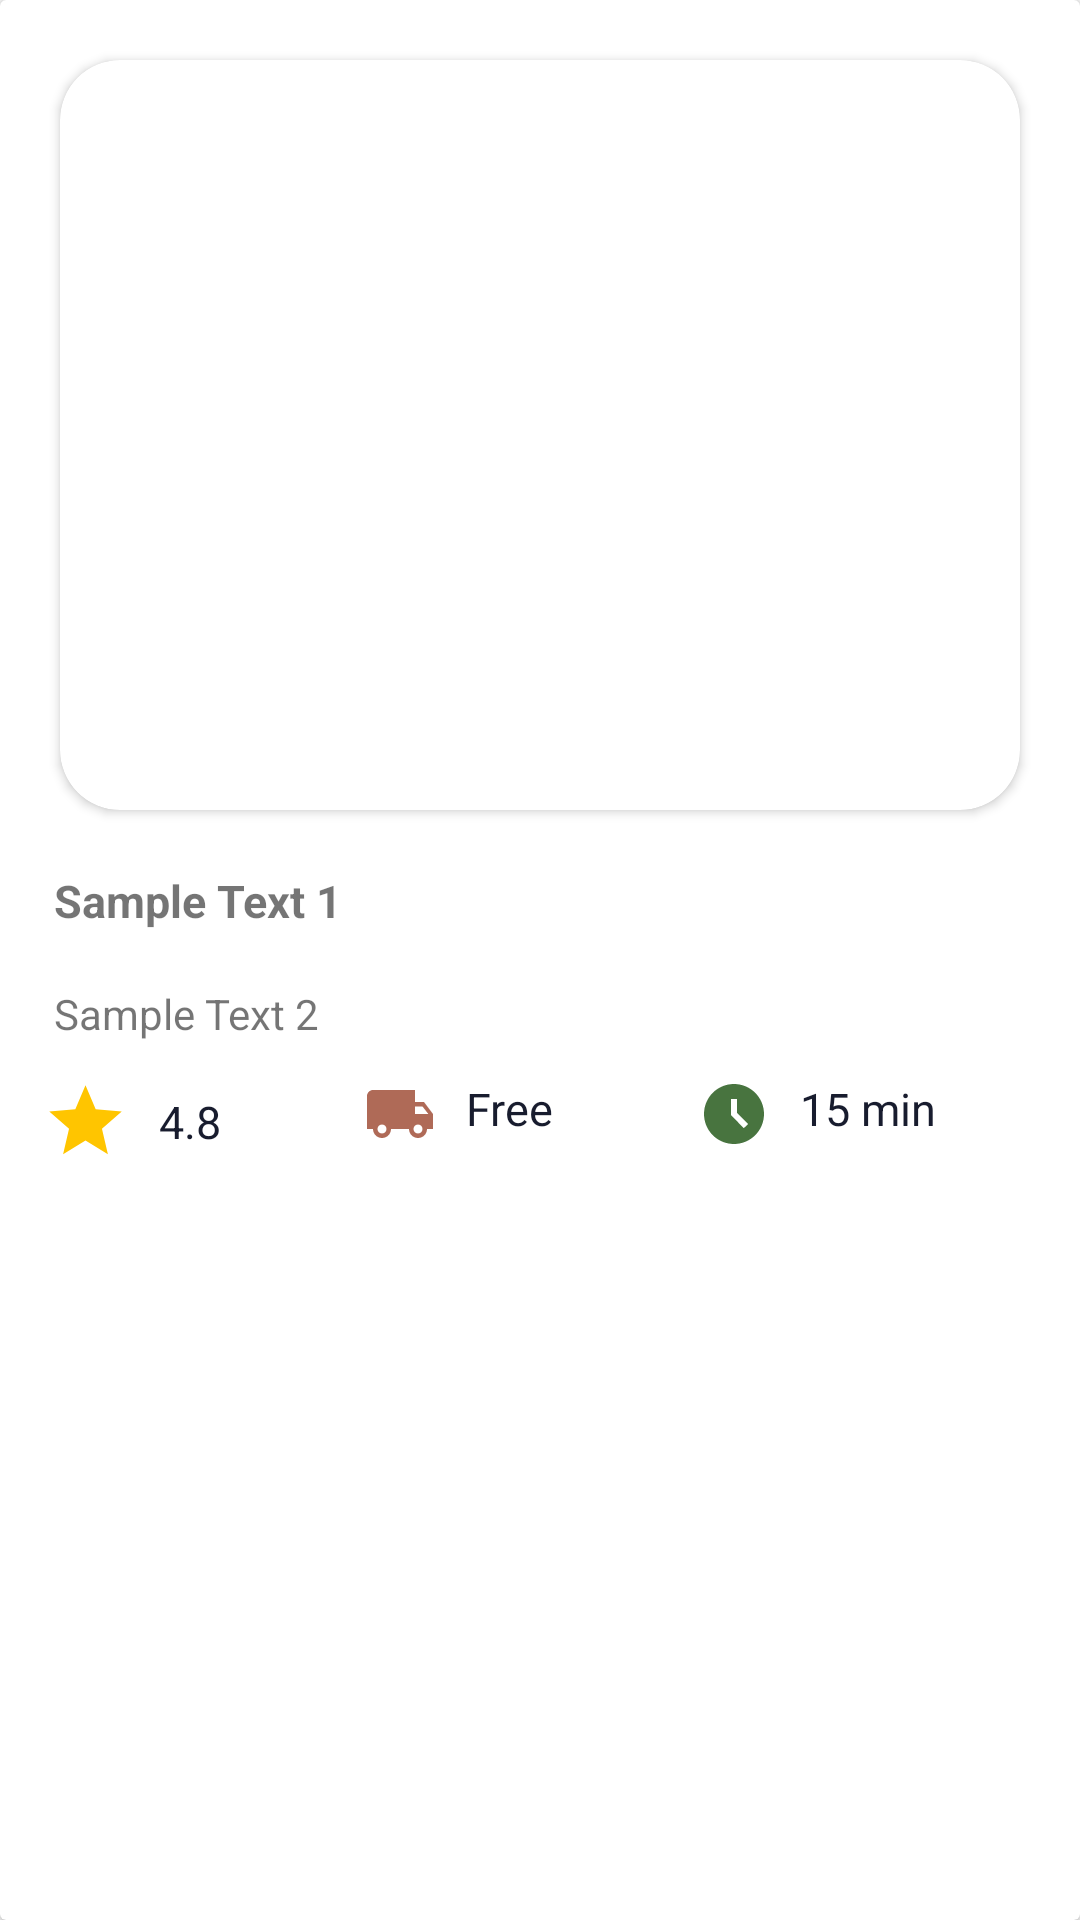

Icon click points for this 1080px x 1920px phone screenshot, format (x,y):
access time: (734,1114)
local shipping: (400,1114)
star: (85,1119)
